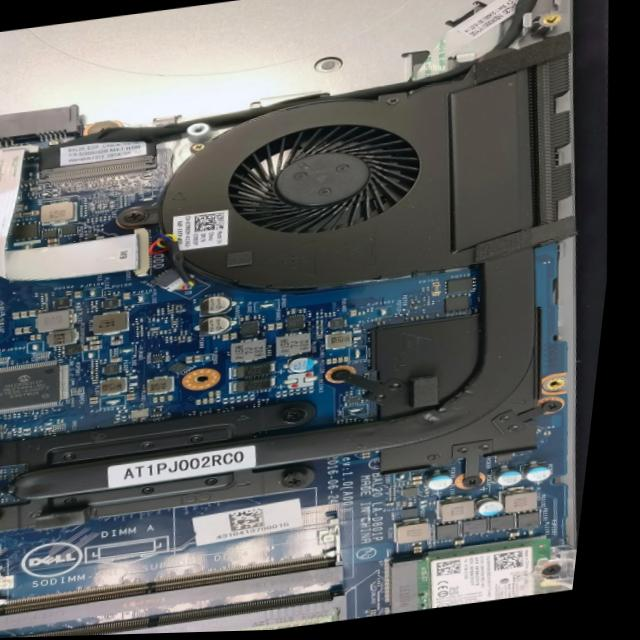datamatrix: (238, 510, 279, 535), (506, 554, 539, 576), (198, 214, 231, 235), (449, 564, 476, 580)
